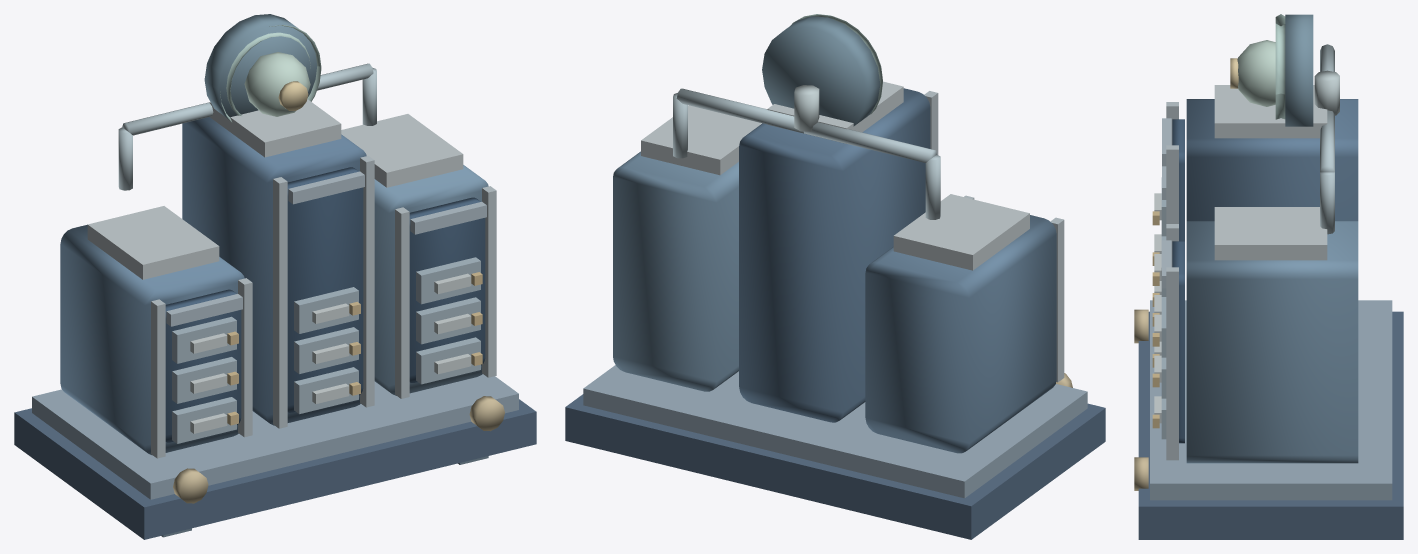
Rendered from ART-14.glb.
3 renders of one model, left to right at view 1: azimuth 30°, elevation 25°; view 2: azimuth 150°, elevation 25°; view 3: azimuth 270°, elevation 25°, orthographic. The views are drawn at different scales.
Visible parts, largest first — view 1: world; view 2: world; view 3: world.
Part boxes in pixels (left/top/right/bottom): world: left=14, top=14, right=536, bottom=539; world: left=565, top=14, right=1105, bottom=539; world: left=1134, top=14, right=1403, bottom=539.
Size of the model in its own units: 1.9 by 2 by 1.11.
